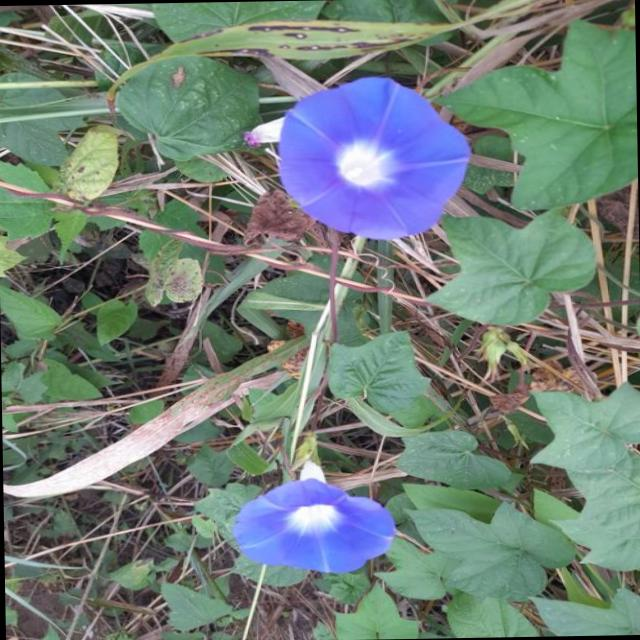ipomoea: (268, 72, 474, 244), (225, 462, 398, 577)
